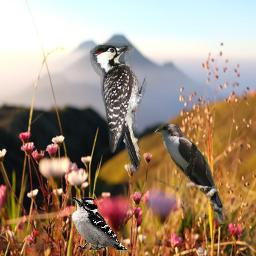Cuckoo: (155, 123, 231, 224)
Woodpecker: (88, 43, 150, 174), (71, 197, 127, 251)
